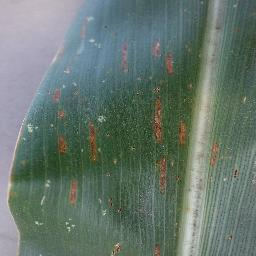Gray_Leaf_Spot: (4, 123, 26, 256), (184, 134, 243, 182), (149, 83, 172, 195), (178, 177, 202, 256), (83, 113, 108, 167), (52, 27, 73, 81), (49, 86, 70, 123), (113, 40, 133, 75), (99, 196, 133, 216), (77, 14, 97, 45), (173, 117, 190, 148), (54, 124, 69, 156), (65, 178, 82, 206), (59, 218, 84, 237), (233, 91, 256, 111), (38, 176, 52, 208), (21, 111, 38, 134), (164, 49, 179, 74), (106, 240, 128, 256), (221, 229, 240, 246), (184, 77, 198, 97), (33, 219, 52, 231), (151, 39, 163, 57), (109, 155, 122, 171), (152, 242, 166, 256)
